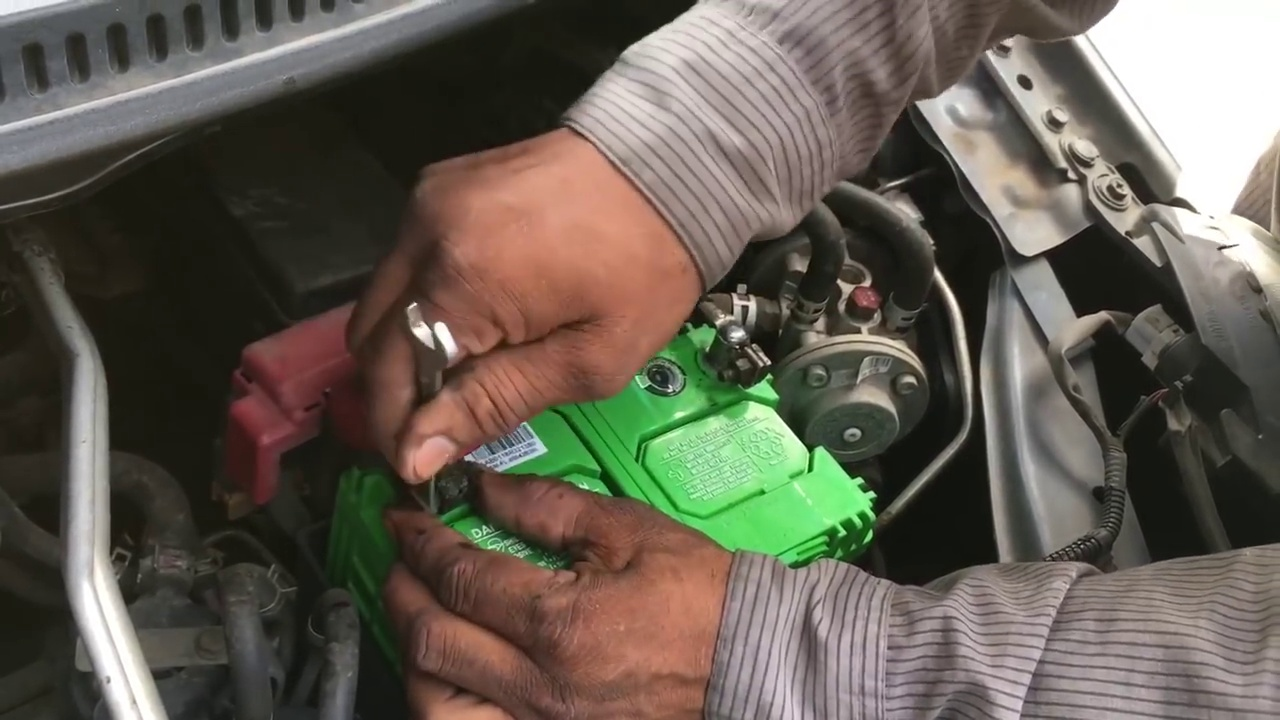battery: (351, 296, 865, 619)
neg_connected: (688, 268, 773, 407)
pos_touched: (241, 287, 495, 540)
